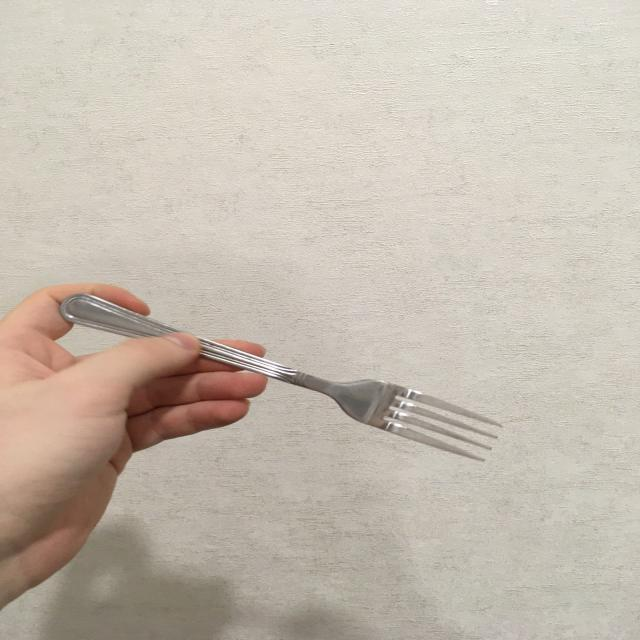fork: (59, 291, 504, 465)
